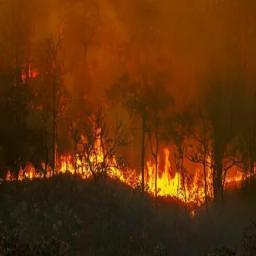Low smoke: (1, 0, 256, 165)
Medium fire: (5, 137, 256, 215)
